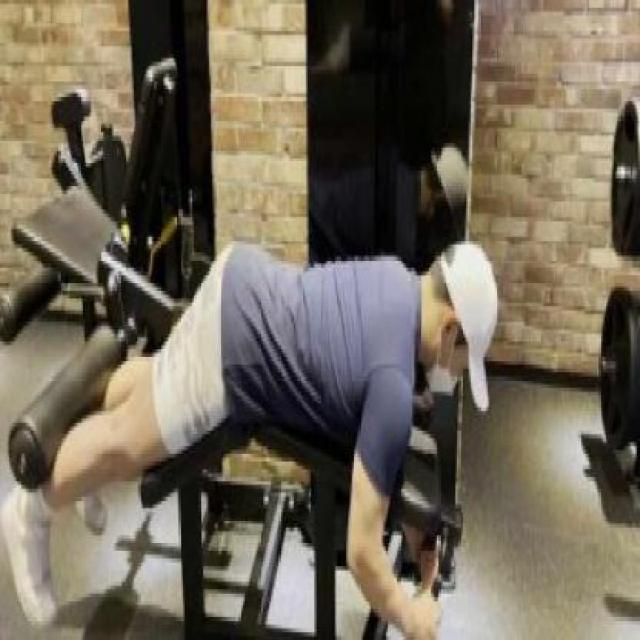reg curl machine: (0, 6, 498, 640)
